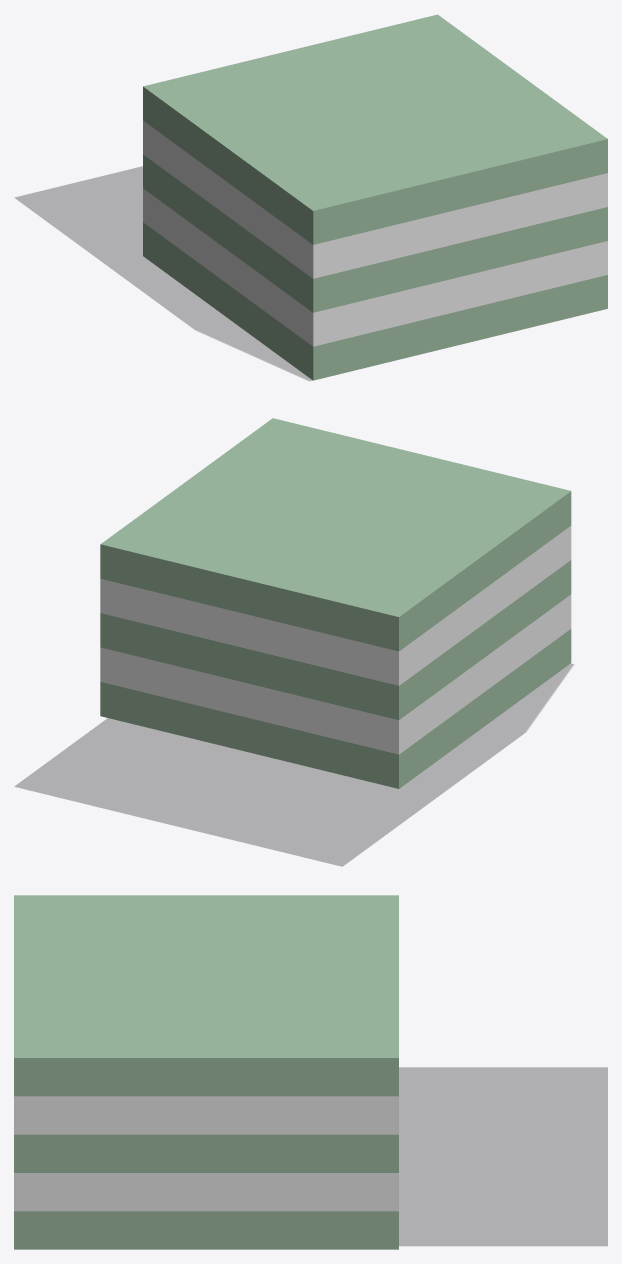
The model's file is block_08.glb.
3 views of the same model, one above another, from view 1: azimuth 30°, elevation 25°; view 2: azimuth 150°, elevation 25°; view 3: azimuth 270°, elevation 25° (orthographic). The views are drawn at different scales.
Visible parts, largest first — view 1: hitObj, block; view 2: hitObj, block; view 3: hitObj, block.
Part boxes in pixels (x1=…): hitObj: x1=143, y1=14, x2=607, y2=380; block: x1=15, y1=166, x2=311, y2=380; hitObj: x1=100, y1=418, x2=571, y2=788; block: x1=14, y1=664, x2=573, y2=866; hitObj: x1=14, y1=895, x2=398, y2=1249; block: x1=399, y1=1067, x2=607, y2=1245.
Bounding box in the file's own units: 11.24 × 5.51 × 15.43.
Materials: 3 (1 with a texture image).
